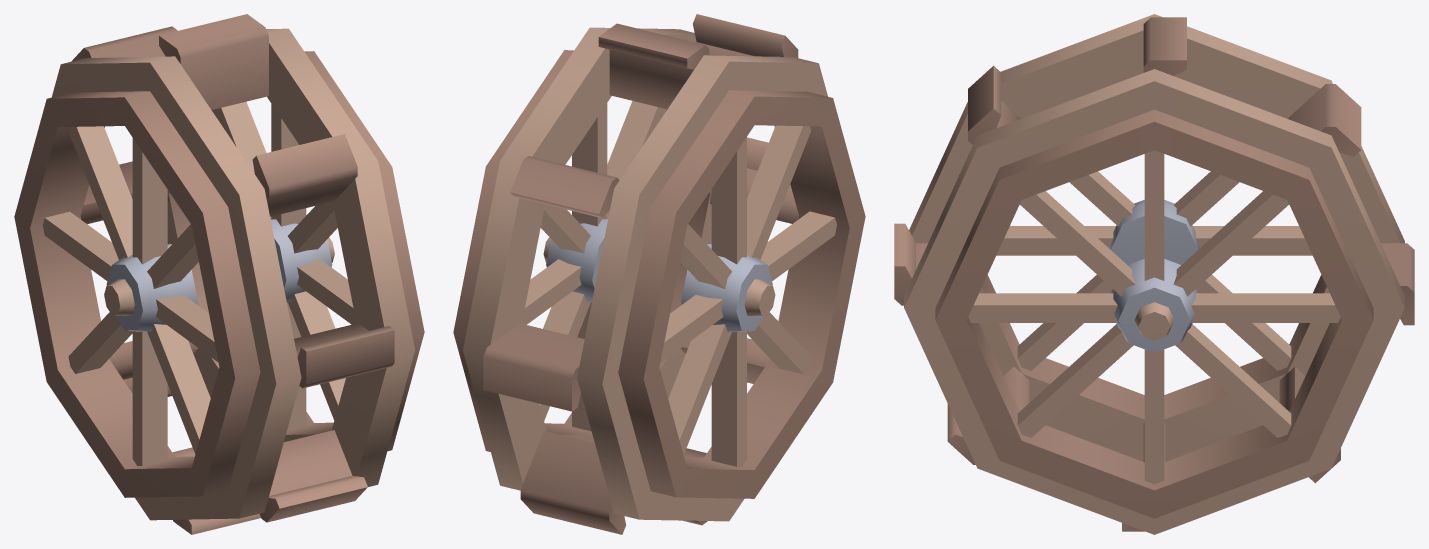
Rendered from watermill.glb.
3 renders of one model, left to right at view 1: azimuth 30°, elevation 25°; view 2: azimuth 150°, elevation 25°; view 3: azimuth 270°, elevation 25°, orthographic.
Parts seen in each view (by area): view 1: watermill; view 2: watermill; view 3: watermill.
Boxes of the visible parts, box(x1,y1,x2,y2) form: watermill: box(14, 14, 424, 534); watermill: box(453, 14, 865, 534); watermill: box(894, 14, 1414, 534).
Bounding box in the file's own units: 0.85 × 1.8 × 1.8.
